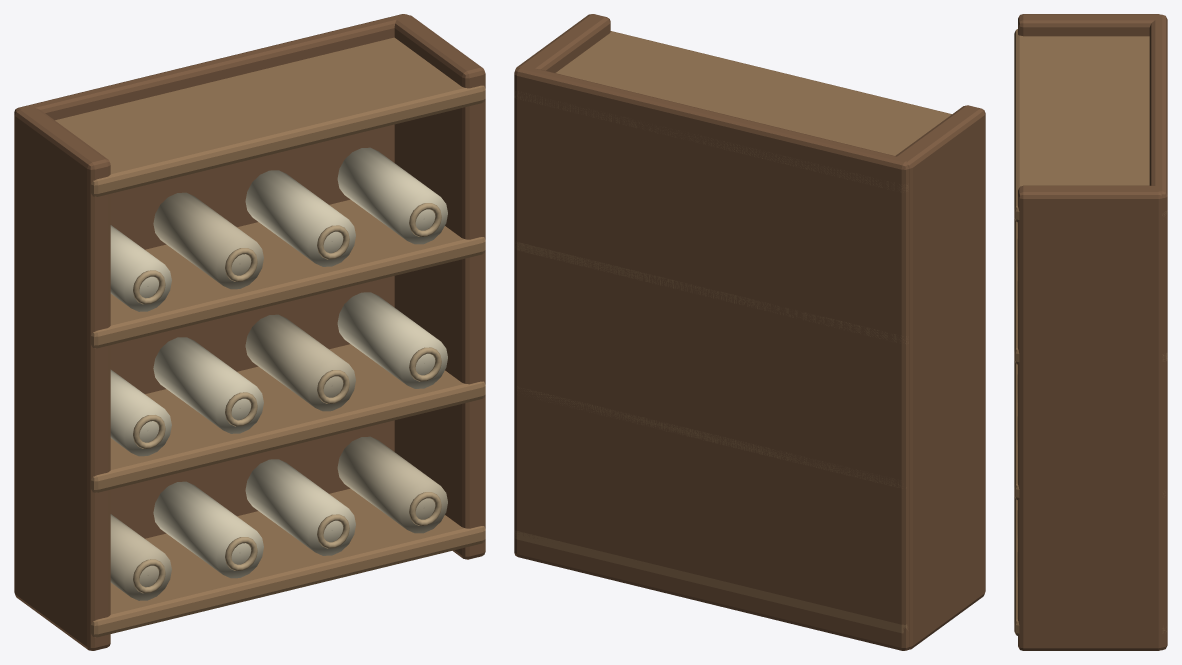
The model's file is scroll-rack.glb.
3 renders of one model, left to right at view 1: azimuth 30°, elevation 25°; view 2: azimuth 150°, elevation 25°; view 3: azimuth 270°, elevation 25°, orthographic. The views are drawn at different scales.
Visible parts, largest first — view 1: scroll-rack__Visual_matte; view 2: scroll-rack__Visual_matte; view 3: scroll-rack__Visual_matte.
Boxes of the visible parts, x1,y1,x2,y2 form: scroll-rack__Visual_matte: (14, 14, 485, 650); scroll-rack__Visual_matte: (514, 14, 985, 650); scroll-rack__Visual_matte: (1014, 14, 1167, 650).
Size of the model in its own units: 1.21 by 1.42 by 0.43.
